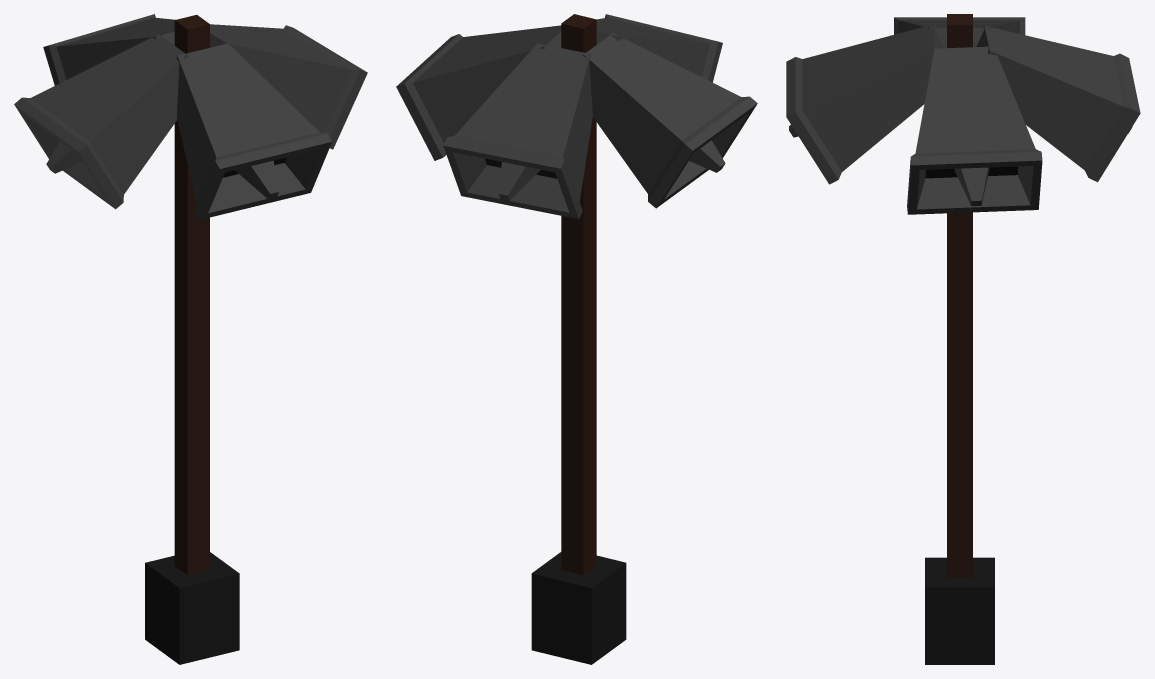
The model's file is Megafono.FBX.
3 renders of one model, left to right at view 1: azimuth 30°, elevation 25°; view 2: azimuth 150°, elevation 25°; view 3: azimuth 270°, elevation 25°, orthographic.
Visible parts, largest first — view 1: Megafono; view 2: Megafono; view 3: Megafono.
Part boxes in pixels (x1,y1,x2,y2): Megafono: [14, 14, 367, 664]; Megafono: [396, 14, 757, 664]; Megafono: [786, 14, 1140, 664].
Bounding box in the file's own units: 257 × 514 × 261.
